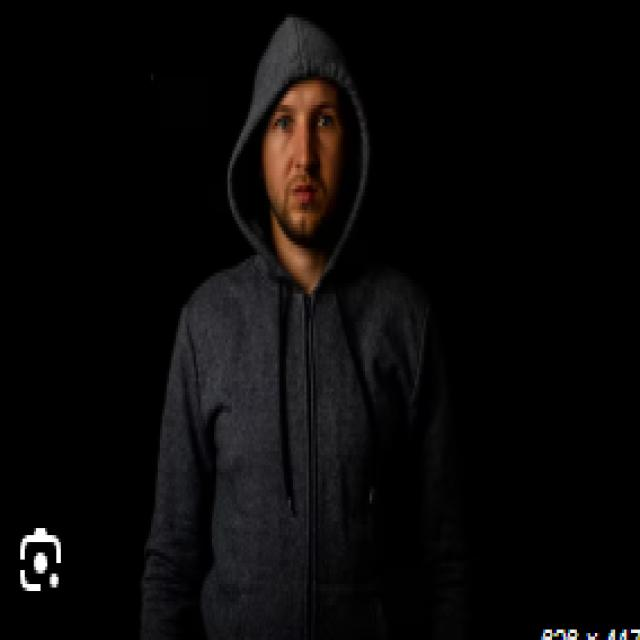4_capucha: (226, 15, 371, 302)
